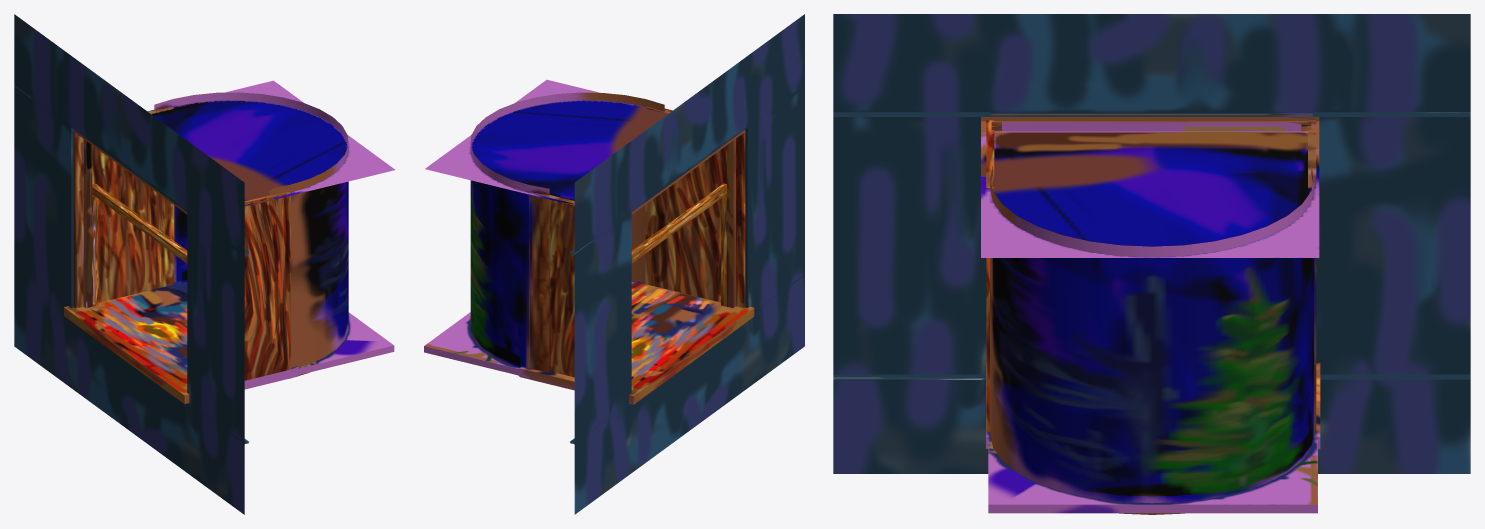
Rendered from Level3_Umgebung.fbx.
3 views of the same model, side by side, from view 1: azimuth 30°, elevation 25°; view 2: azimuth 150°, elevation 25°; view 3: azimuth 270°, elevation 25° (orthographic). The views are drawn at different scales.
Visible parts, largest first — view 1: Balkon, Wand, Rahmen_Dynamisch; view 2: Balkon, Wand, Rahmen_Dynamisch; view 3: Wand, Balkon.
Boxes of the visible parts, <box> form: Balkon: <box>64,80,395,404</box>; Wand: <box>14,14,249,514</box>; Rahmen_Dynamisch: <box>92,184,187,306</box>; Balkon: <box>424,79,754,404</box>; Wand: <box>570,14,804,514</box>; Rahmen_Dynamisch: <box>631,183,726,306</box>; Wand: <box>833,14,1470,473</box>; Balkon: <box>981,114,1320,514</box>.
Bounding box in the file's own units: 144 × 218 × 273.
